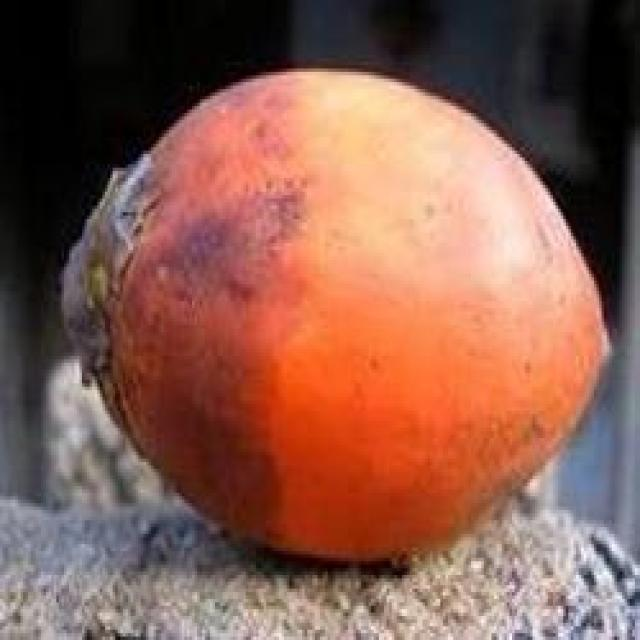good: (61, 68, 614, 568)
